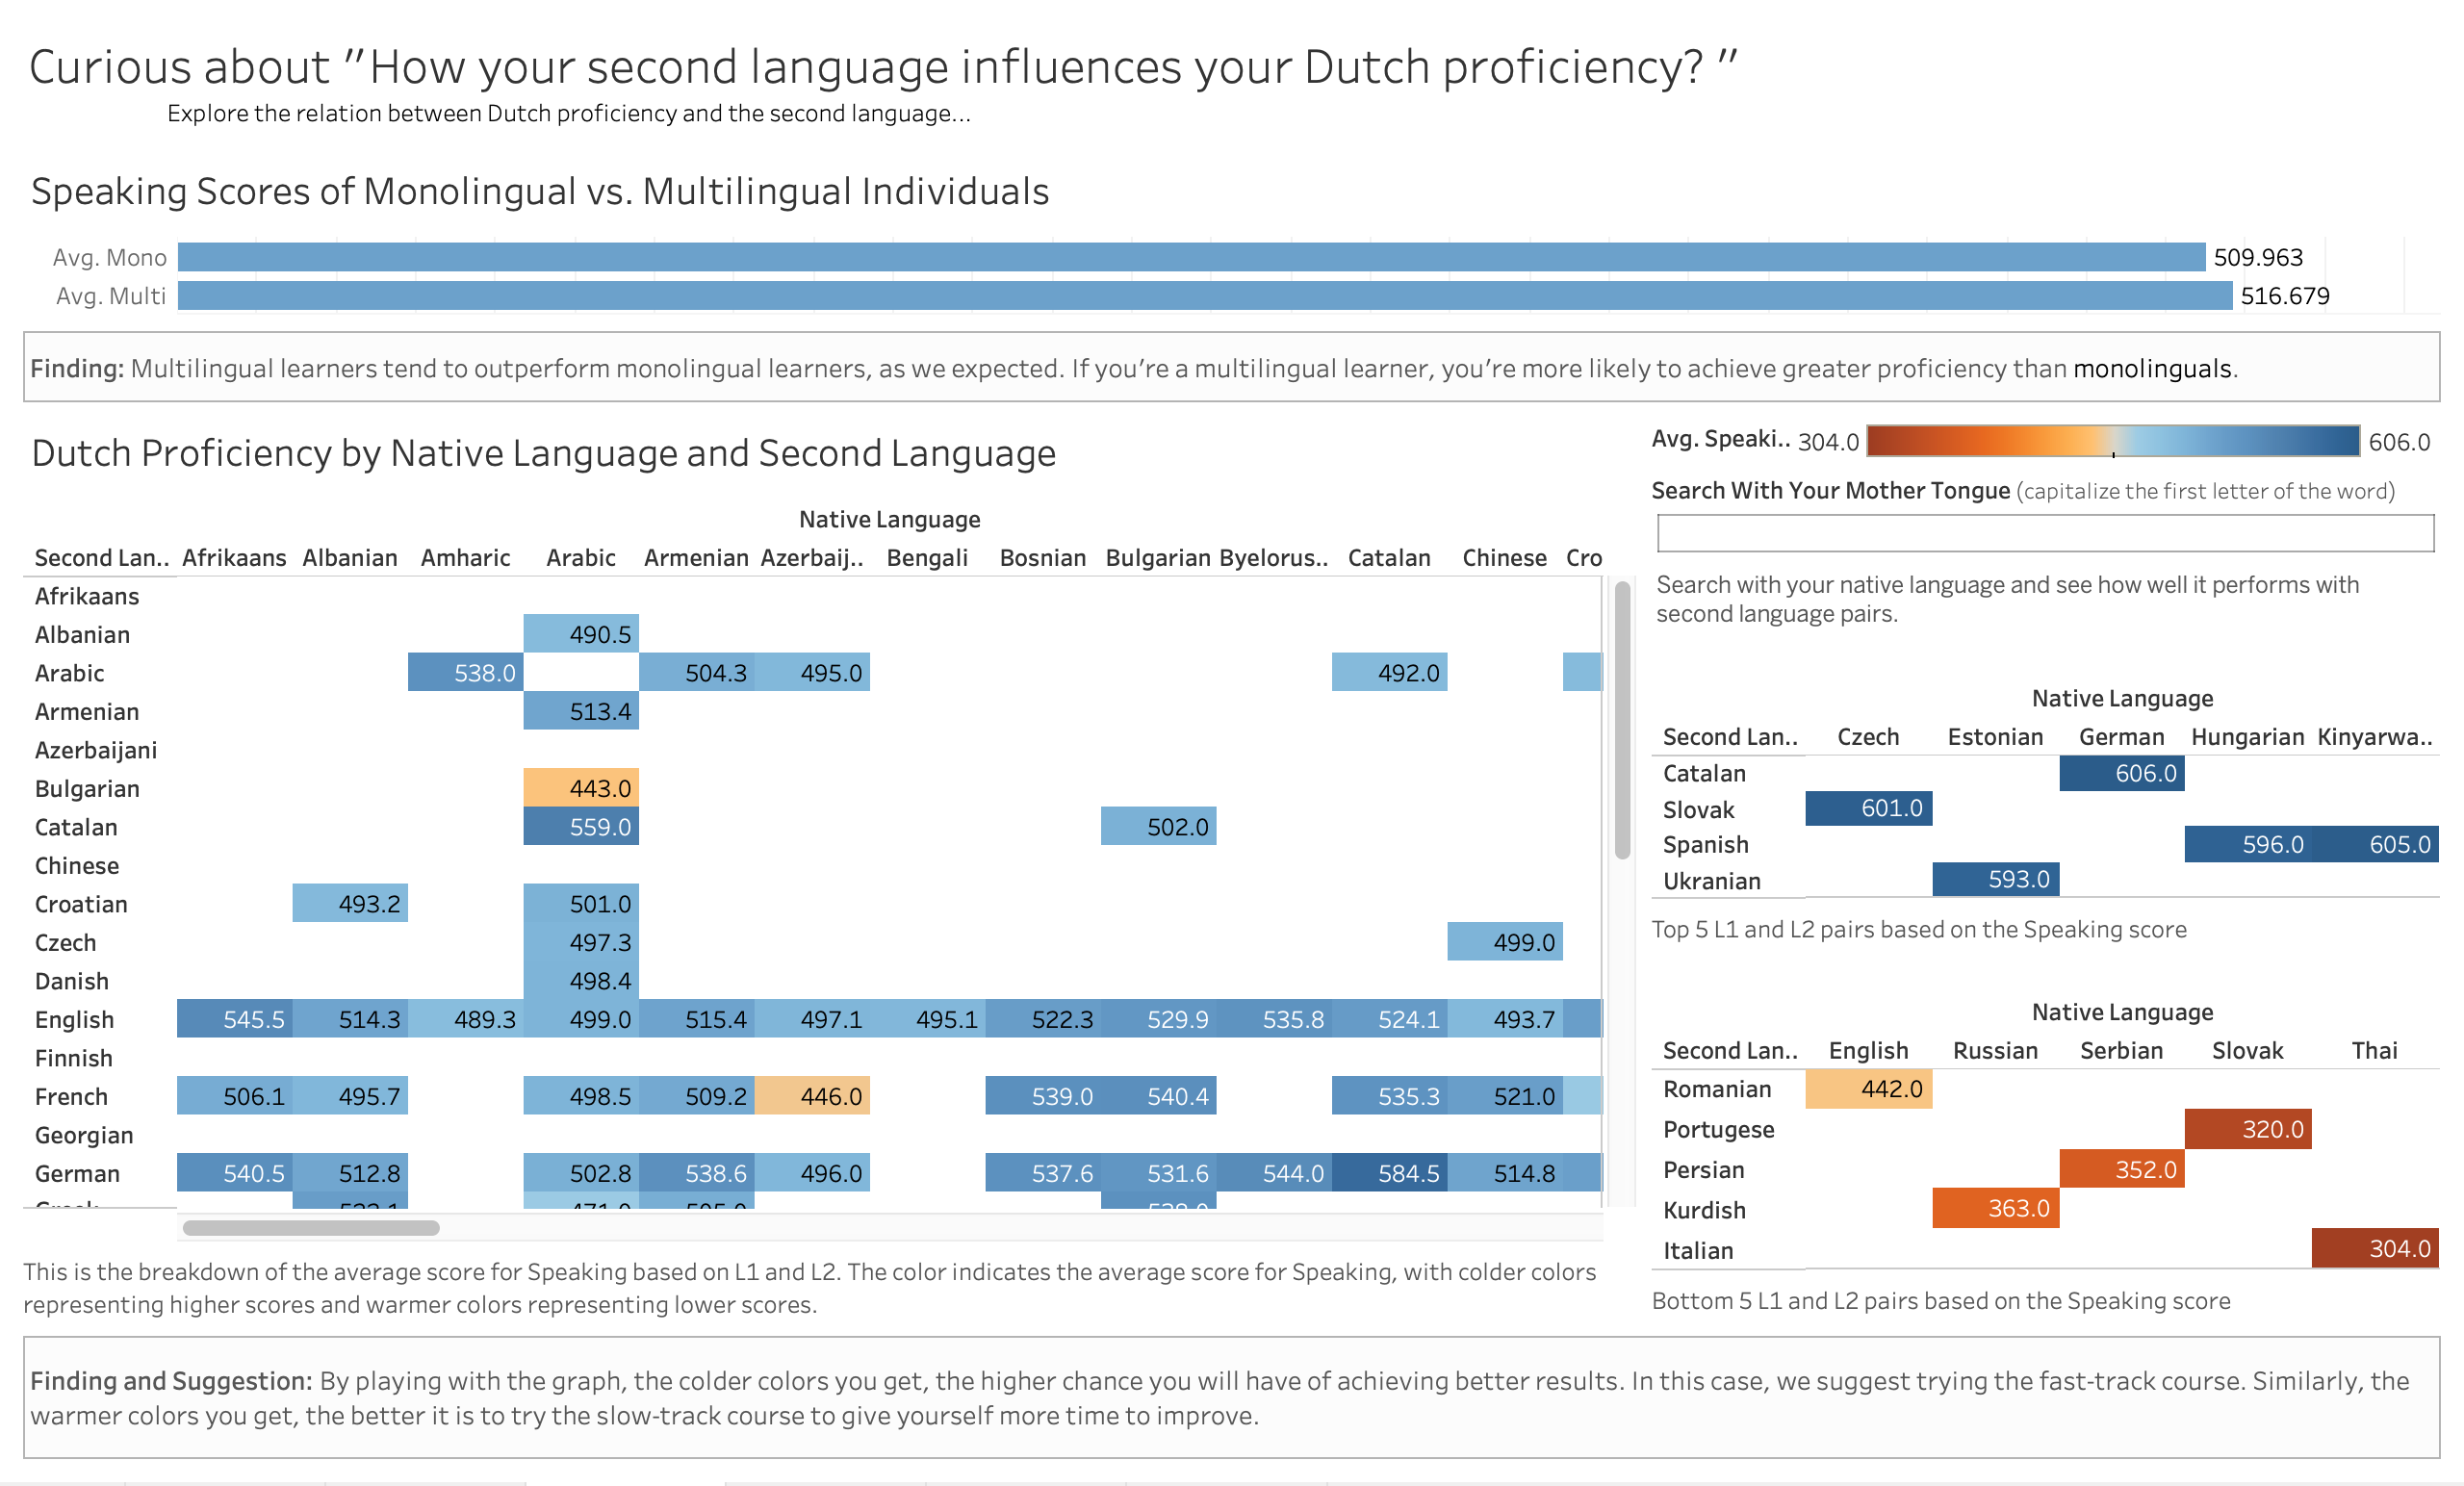

The page's visual inventory and layout, read from the dashboard file:
{"tool":"tableau","page":{"name":"Dashboard 3","canvas":[1000,1000],"units":"permille","ordinal":2},"visuals":[{"type":"text","box":[6.2,10.4,987.5,89.8]},{"type":"worksheet","title":"Mono&Multi","mark":"Automatic","box":[6.2,100.2,987.5,117.6]},{"type":"text","box":[6.2,217.8,987.5,58.2]},{"type":"worksheet","title":"L1&L2","mark":"Square","rows":["L2"],"cols":["L1"],"box":[6.2,276,660.9,620.2]},{"type":"legend","title":"L1&L2","param":"[federated.1vhxzma1vfckmp1bi80181q941ae (copy)].[avg:Speaking:qk]","box":[667.1,276,326.6,38.5]},{"type":"parameter","param":"[Parameters].[Age Parameter (copy)_2094314599932526597]","box":[667.1,314.4,326.6,63.6]},{"type":"text","box":[667.1,378,326.6,54.6]},{"type":"worksheet","title":"Top5 L1&L2","mark":"Square","rows":["L2"],"cols":["L1"],"box":[667.1,432.7,326.6,211.7]},{"type":"worksheet","title":"Bottom5 L1&L2","mark":"Square","rows":["L2"],"cols":["L1"],"box":[667.1,644.3,326.6,251.8]},{"type":"text","box":[6.2,896.2,987.5,93.4]}]}

Visuals, with their boxes on the dashboard's canvas, which has no fixed pixel size, in thousandths of its width and height (x1, y1, x2, y2). These are canvas units, not pixel positions in the 2464x1486 screenshot, which may show the page scaled, cropped or inside an application window:
text: Rect(6, 10, 994, 100)
"Mono&Multi" worksheet: Rect(6, 100, 994, 218)
text: Rect(6, 218, 994, 276)
"L1&L2" worksheet (Square marks): Rect(6, 276, 667, 896)
"L1&L2" legend: Rect(667, 276, 994, 314)
parameter: Rect(667, 314, 994, 378)
text: Rect(667, 378, 994, 433)
"Top5 L1&L2" worksheet (Square marks): Rect(667, 433, 994, 644)
"Bottom5 L1&L2" worksheet (Square marks): Rect(667, 644, 994, 896)
text: Rect(6, 896, 994, 990)
